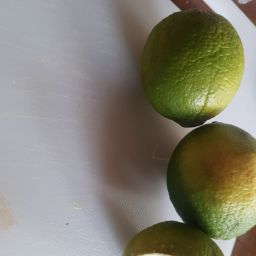Lemon: (110, 6, 256, 241), (135, 10, 249, 128), (144, 121, 256, 237), (166, 123, 256, 242), (109, 209, 231, 256)
